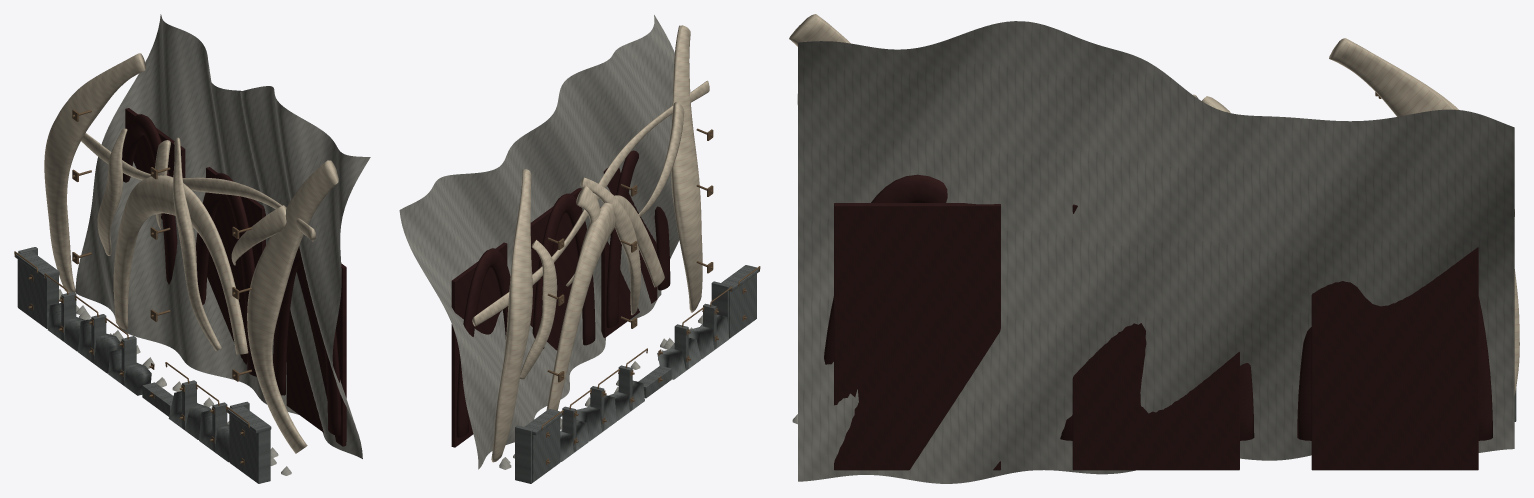
The model's file is cut-static.glb.
3 views of the same model, side by side, from view 1: azimuth 30°, elevation 25°; view 2: azimuth 150°, elevation 25°; view 3: azimuth 270°, elevation 25° (orthographic). The views are drawn at different scales.
Visible parts, largest first — view 1: cut_geology, cut_ribs, cut_cavity_depth, cut_retaining, cut_fittings, cut_rubble; view 2: cut_geology, cut_ribs, cut_cavity_depth, cut_retaining, cut_fittings, cut_rubble; view 3: cut_geology, cut_cavity_depth, cut_ribs.
Part boxes in pixels (box(x1,y1,x2,y2)): cut_geology: box(75, 14, 370, 458); cut_ribs: box(44, 53, 338, 453); cut_cavity_depth: box(122, 108, 346, 446); cut_retaining: box(14, 247, 271, 483); cut_fittings: box(14, 109, 251, 465); cut_rubble: box(59, 289, 291, 475); cut_geology: box(399, 15, 679, 469); cut_ribs: box(472, 25, 709, 462); cut_cavity_depth: box(451, 150, 670, 447); cut_retaining: box(515, 265, 759, 483); cut_fittings: box(541, 128, 760, 464); cut_rubble: box(499, 315, 702, 469); cut_geology: box(798, 21, 1514, 483); cut_cavity_depth: box(824, 174, 1492, 470); cut_ribs: box(789, 14, 1519, 395).
Size of the model in its own units: 8.63 by 16.84 by 24.47.
5 materials, 5 textured.
